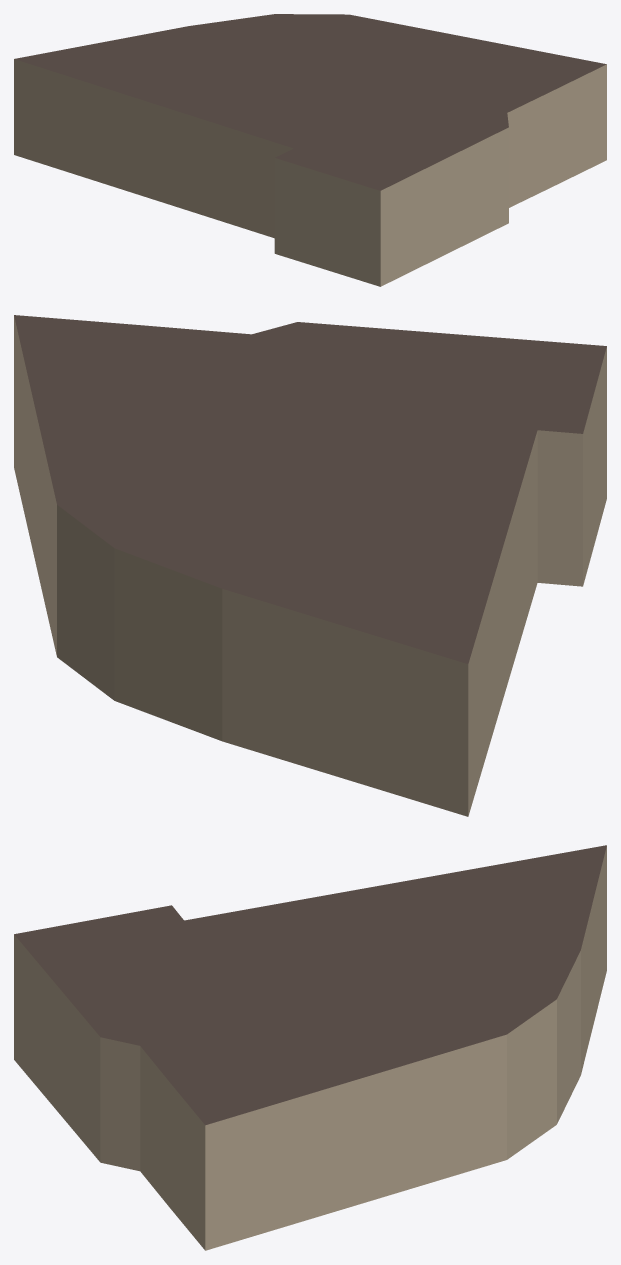
3 views of the same model, one above another, from view 1: azimuth 30°, elevation 25°; view 2: azimuth 150°, elevation 25°; view 3: azimuth 270°, elevation 25° (orthographic). The views are drawn at different scales.
Visible parts, largest first — view 1: HP-w369237869; view 2: HP-w369237869; view 3: HP-w369237869.
Boxes of the visible parts, x1,y1,x2,y2 form: HP-w369237869: (14,14,606,286); HP-w369237869: (14,315,606,816); HP-w369237869: (14,845,606,1250).
Size of the model in its own units: 43.11 by 9 by 38.55.
